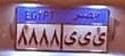8: (27, 26, 39, 46), (39, 27, 49, 48), (18, 27, 28, 47), (51, 28, 59, 47)
yaa: (62, 30, 78, 48), (92, 29, 106, 48), (78, 30, 92, 48)
